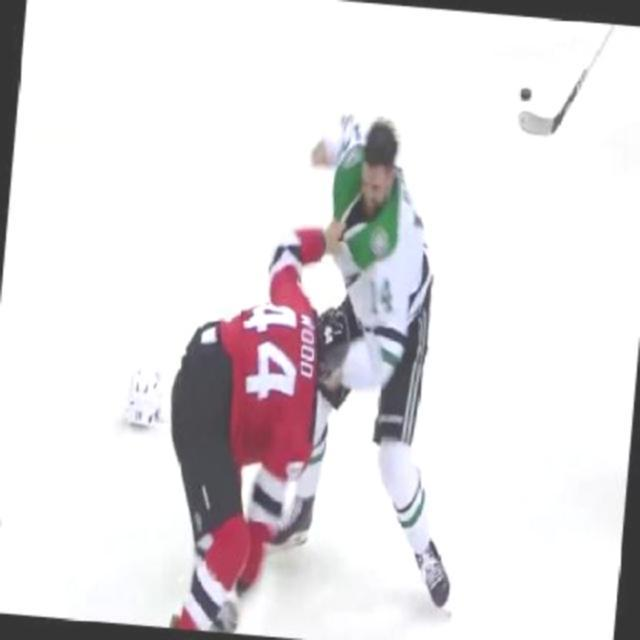fight: (149, 92, 469, 638)
